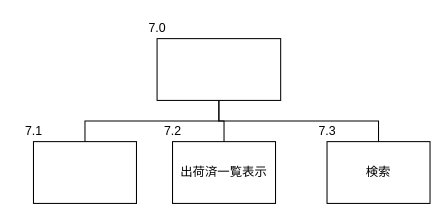
Some shapes in this 448 by 221 pixel diagram are drawn without their labels. Here are the shapes that lost their labels. From the top down, the centre of each, then its label:
[218,69]: 出荷管理
[84,172]: 登録
